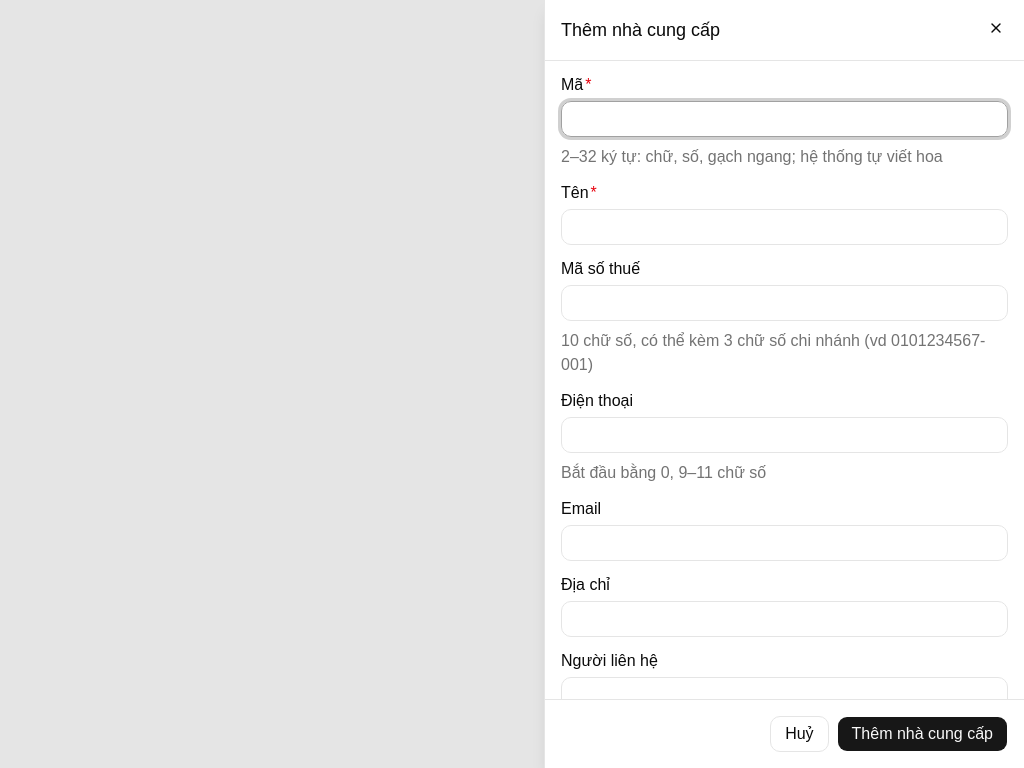
Test: SupplierFormSheet — tạo mới › lỗi backend 101209 hiện dưới đúng ô phonenumber, không toast, hộp xác nhận đã đóng
In the field labelled "Mã *": (784,119) [561, 101, 1008, 137], type "ncc-hn-02"
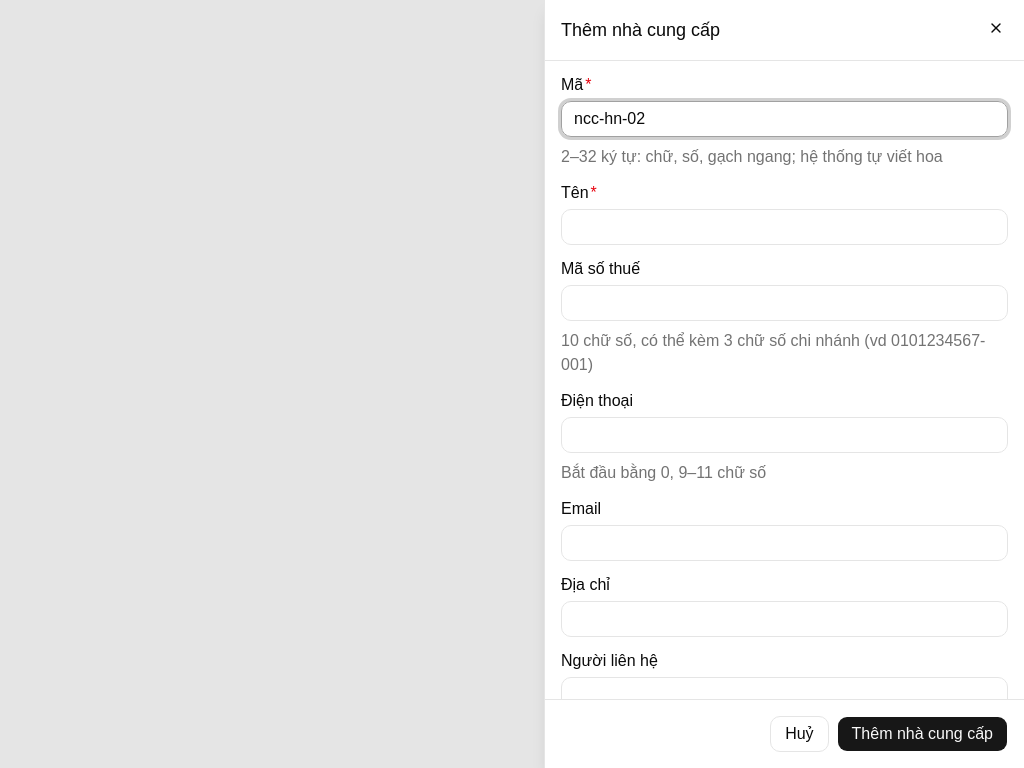
In the field labelled "Tên *": (784,227) [561, 209, 1008, 245], type "Công ty XYZ"
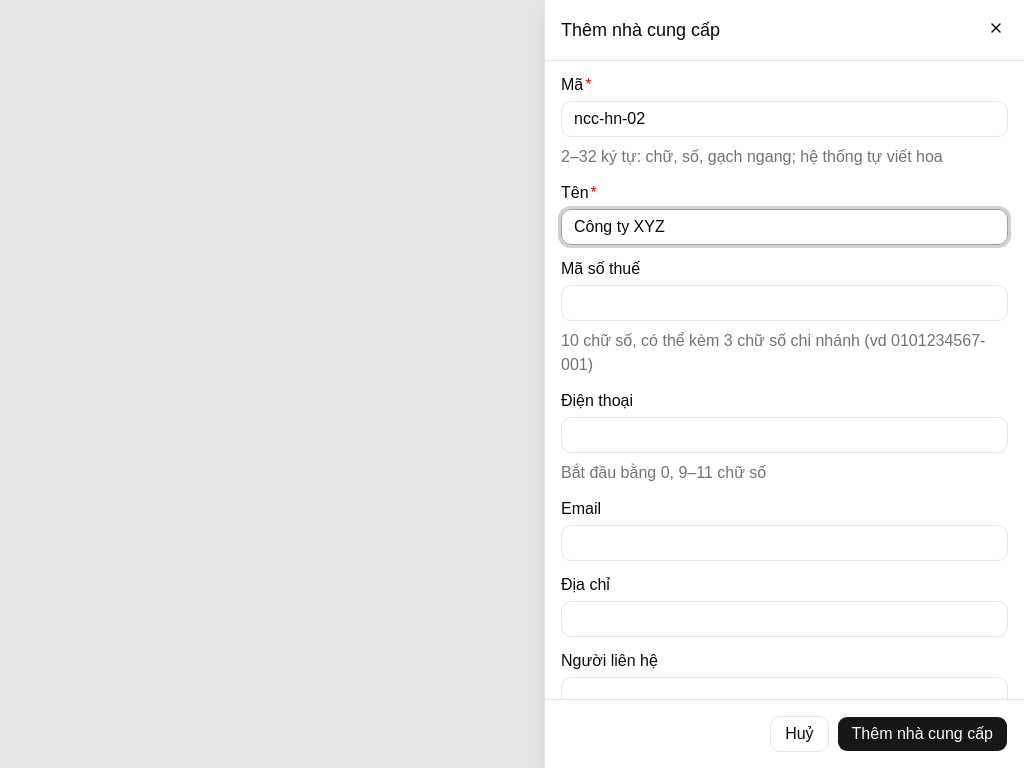
Click the button "Thêm nhà cung cấp": (922,734) [837, 716, 1008, 752]
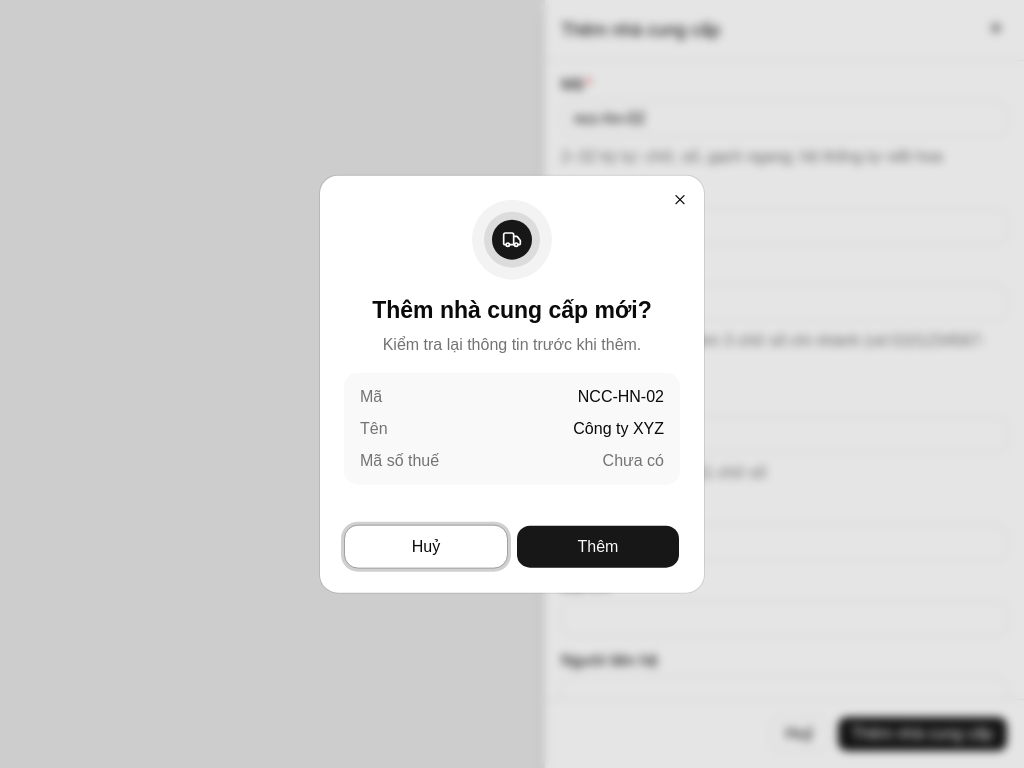
Click the button "Thêm": (598,546) [516, 524, 680, 568]
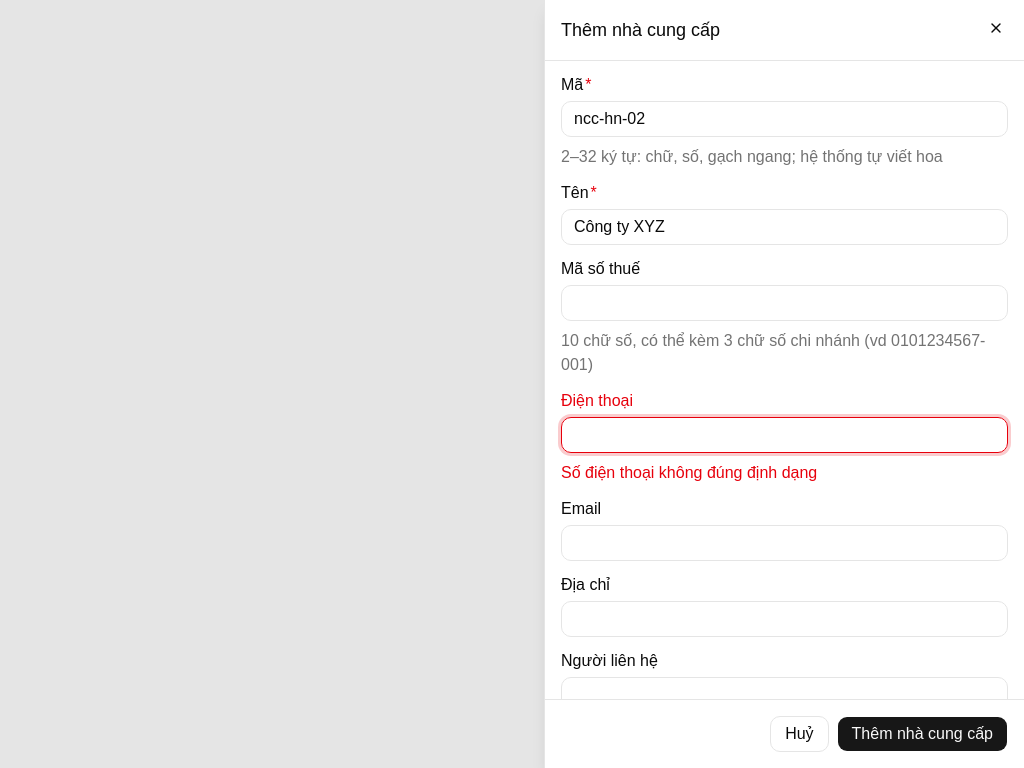
Check: the text "Số điện thoại không đúng định dạng" is shown, box [561, 464, 817, 481]
